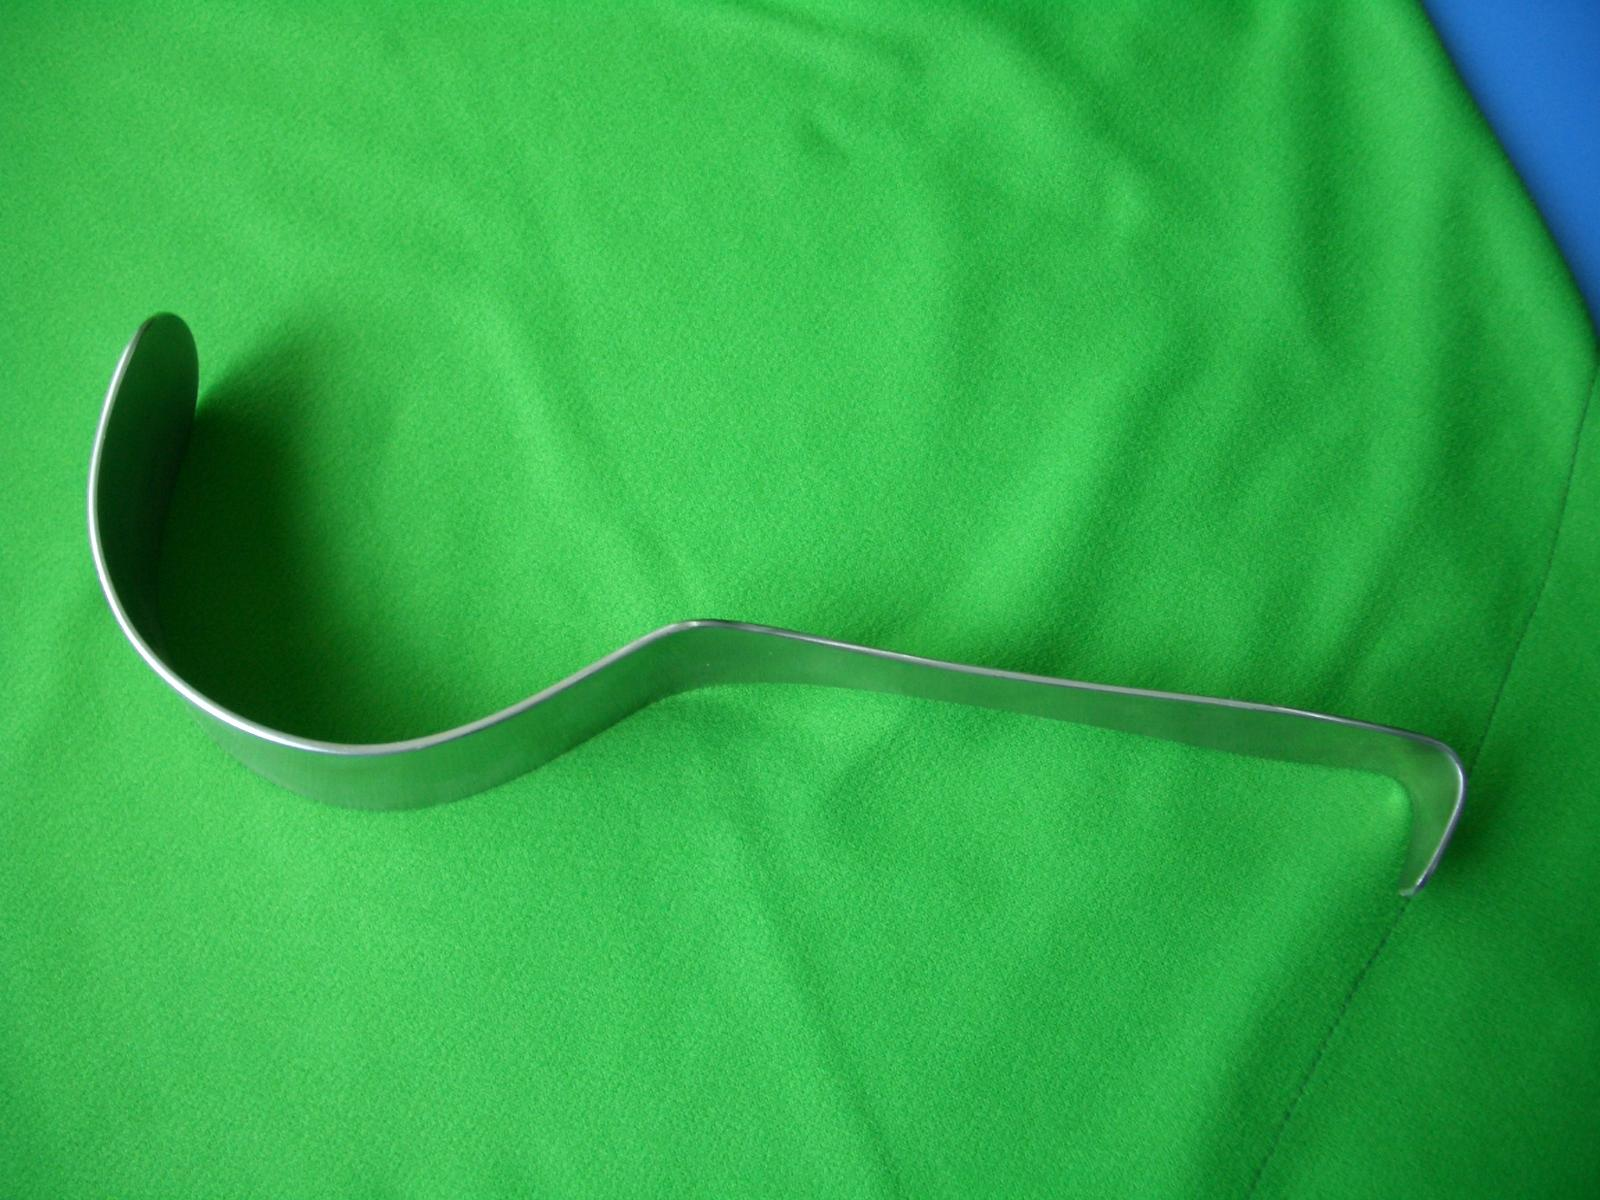Deaver Retractor: (68, 297, 1500, 924)
